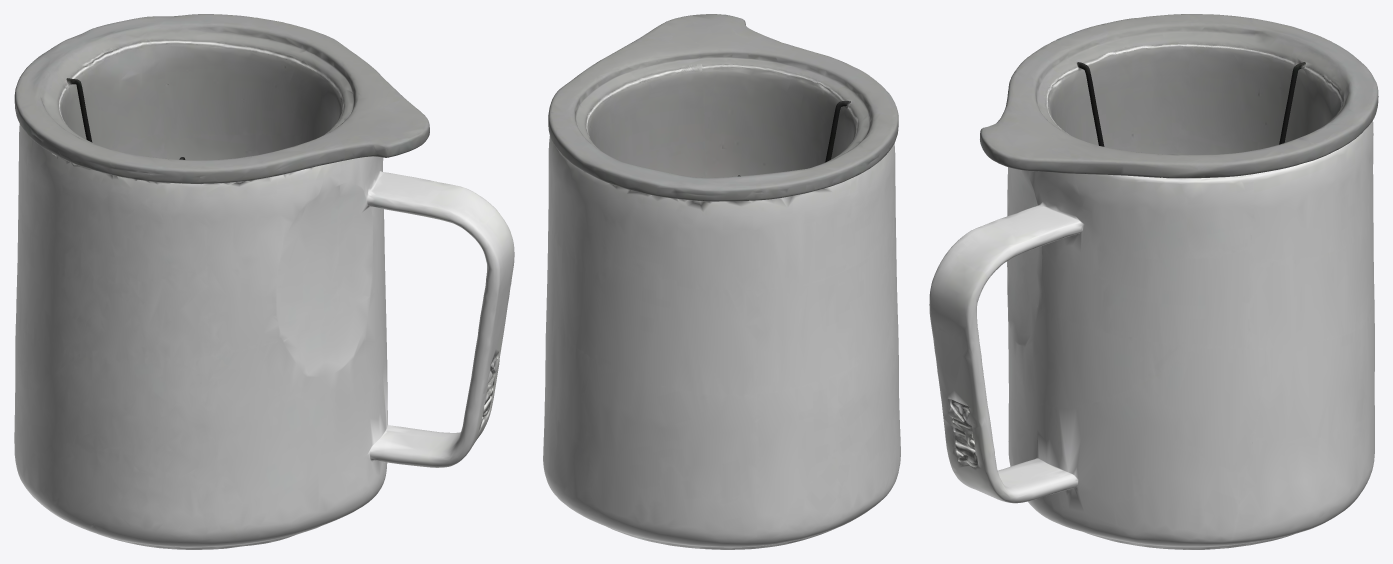
3 views of the same model, side by side, from view 1: azimuth 30°, elevation 25°; view 2: azimuth 150°, elevation 25°; view 3: azimuth 270°, elevation 25° (orthographic). The views are drawn at different scales.
Parts seen in each view (by area): view 1: tripo_node_86b0883f-7638-4c4c-b1e4-f86e8737863f; view 2: tripo_node_86b0883f-7638-4c4c-b1e4-f86e8737863f; view 3: tripo_node_86b0883f-7638-4c4c-b1e4-f86e8737863f.
Part boxes in pixels (x1=…): tripo_node_86b0883f-7638-4c4c-b1e4-f86e8737863f: x1=14, y1=14, x2=514, y2=549; tripo_node_86b0883f-7638-4c4c-b1e4-f86e8737863f: x1=543, y1=14, x2=900, y2=549; tripo_node_86b0883f-7638-4c4c-b1e4-f86e8737863f: x1=929, y1=14, x2=1378, y2=549.
Bounding box in the file's own units: 0.9358 × 0.974 × 0.9999.
Materials: 1 (1 with a texture image).
